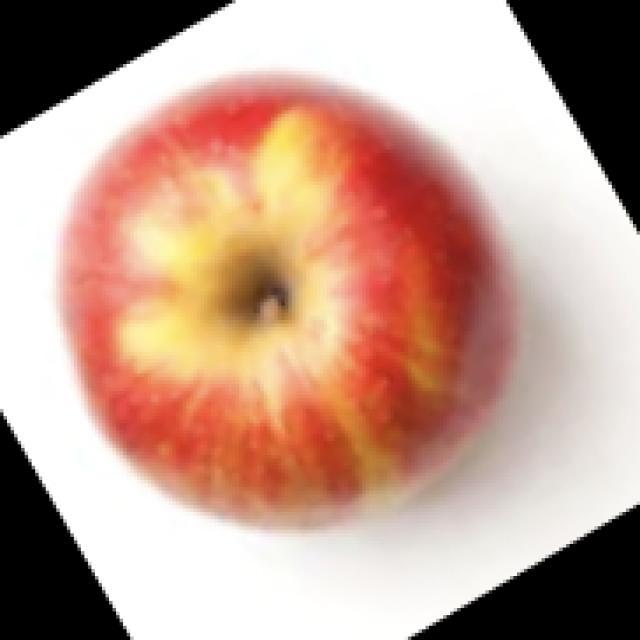Fresh Apple: (54, 84, 534, 578)
